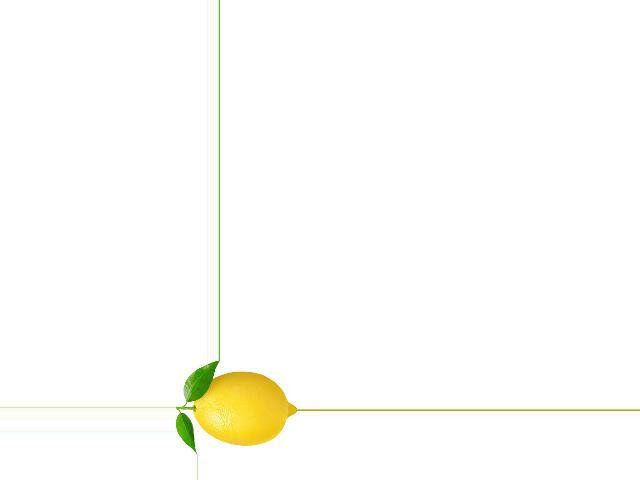lemon: (187, 366, 297, 446)
